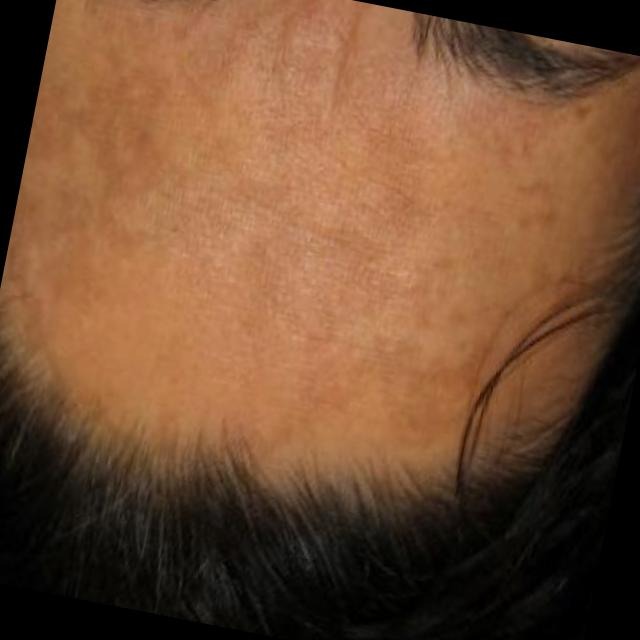melasma: (10, 13, 604, 447)
